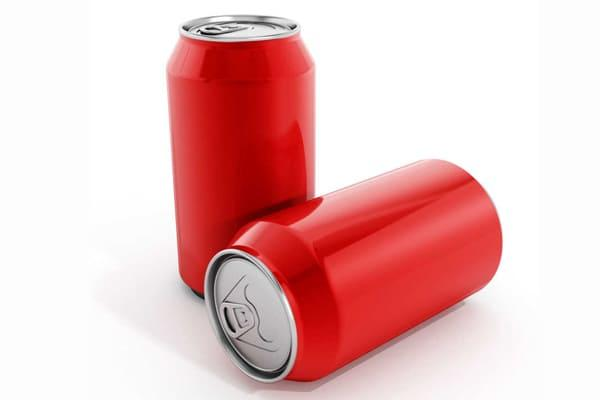lata: (177, 117, 526, 400), (168, 15, 314, 294)
